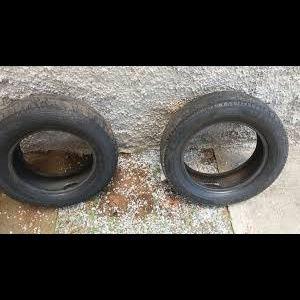tire: (160, 90, 288, 206), (1, 93, 117, 207)
